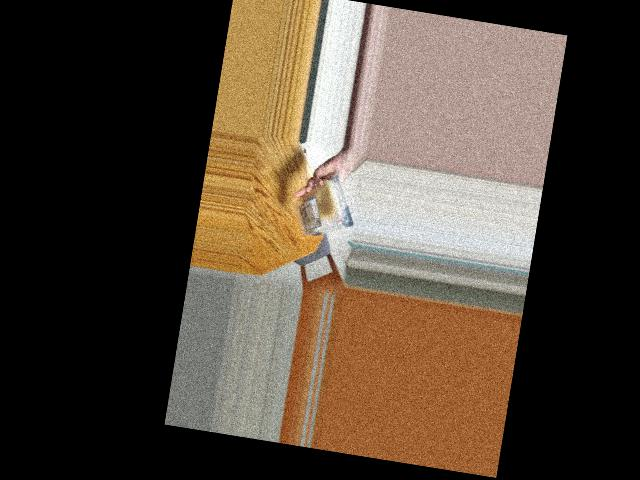cheese: (300, 169, 356, 242)
